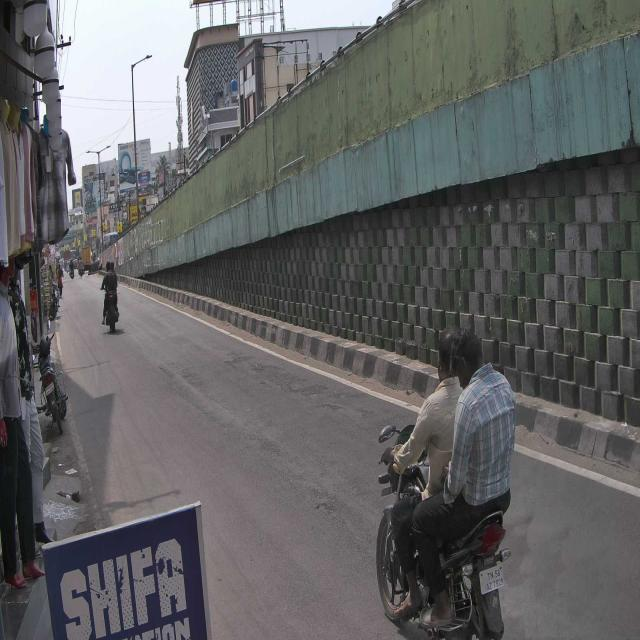double_rider: (376, 327, 516, 640)
